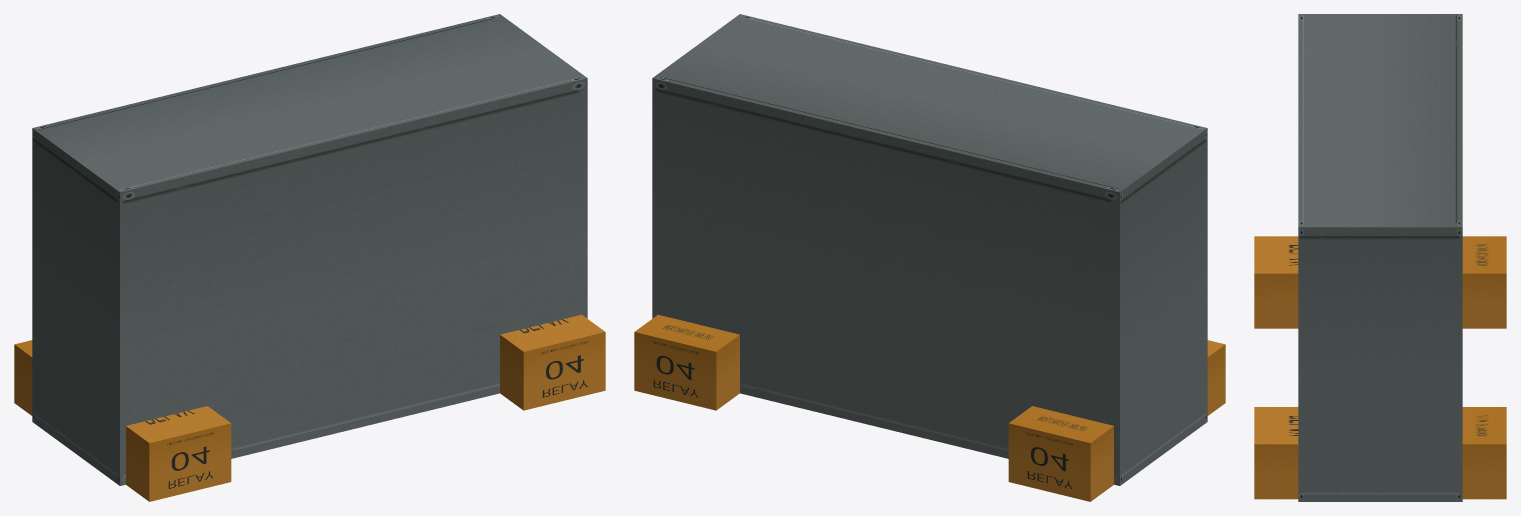
File: barricade_2m_LOD3.obj
The picture shows the model from 3 angles, left to right: view 1: azimuth 30°, elevation 25°; view 2: azimuth 150°, elevation 25°; view 3: azimuth 270°, elevation 25°; orthographic projection. The views are drawn at different scales.
Visible parts, largest first — view 1: L02_barricade_2m_LOD3; view 2: L02_barricade_2m_LOD3; view 3: L02_barricade_2m_LOD3.
Boxes of the visible parts, <box> form: L02_barricade_2m_LOD3: <box>14,14,605,501</box>; L02_barricade_2m_LOD3: <box>634,14,1225,501</box>; L02_barricade_2m_LOD3: <box>1254,14,1506,501</box>.
Size of the model in its own units: 2 by 1.2 by 1.
1 material, 1 textured.
